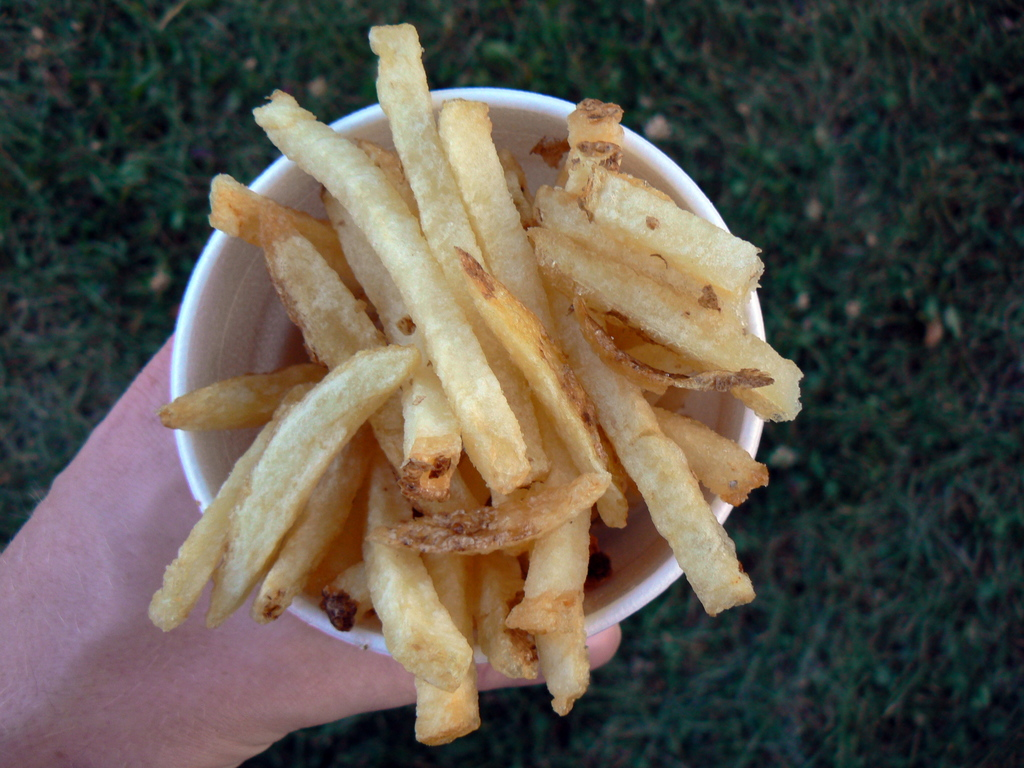French fries: (247, 80, 541, 510), (439, 93, 586, 733), (356, 26, 544, 484), (554, 278, 741, 629), (192, 351, 422, 631), (455, 246, 625, 548), (544, 226, 788, 422), (145, 378, 333, 629), (261, 233, 400, 470), (360, 434, 478, 693), (581, 145, 773, 298), (510, 189, 728, 315), (356, 462, 613, 556), (201, 179, 366, 291), (418, 480, 483, 750), (147, 352, 329, 440), (647, 398, 768, 513), (541, 88, 622, 213)
